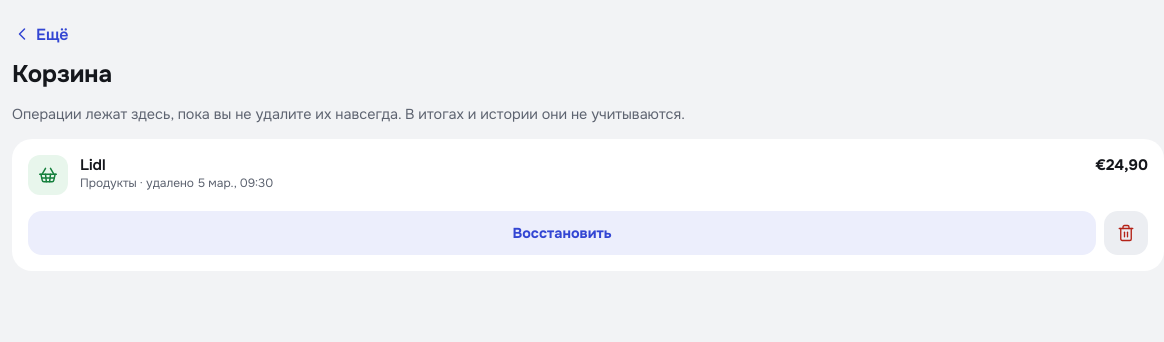
Test: TrashScreen › purges after confirmation
This screenshot has width=1164, height=342.
Click the button named "Удалить навсегда: Lidl".
click(1126, 233)  # box [1104,211,1148,255]
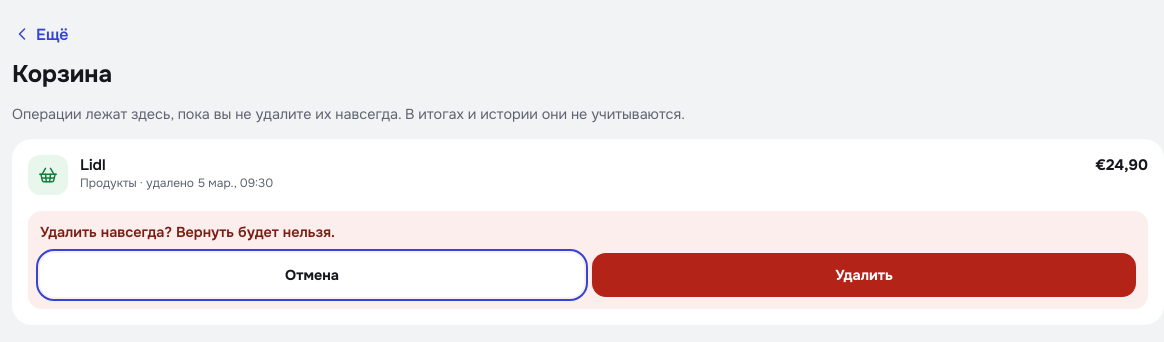
Click the button "Удалить".
click(864, 275)  # box [592,253,1136,297]
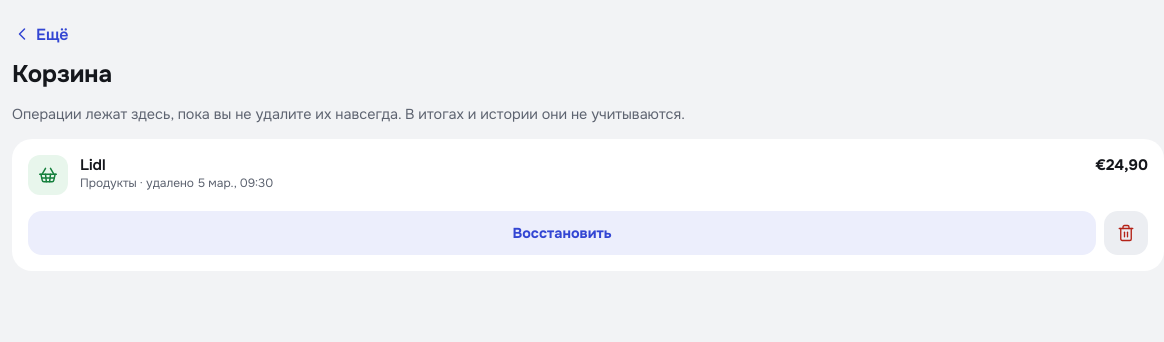
expect the text "Вернуть будет нельзя" is gone: met
